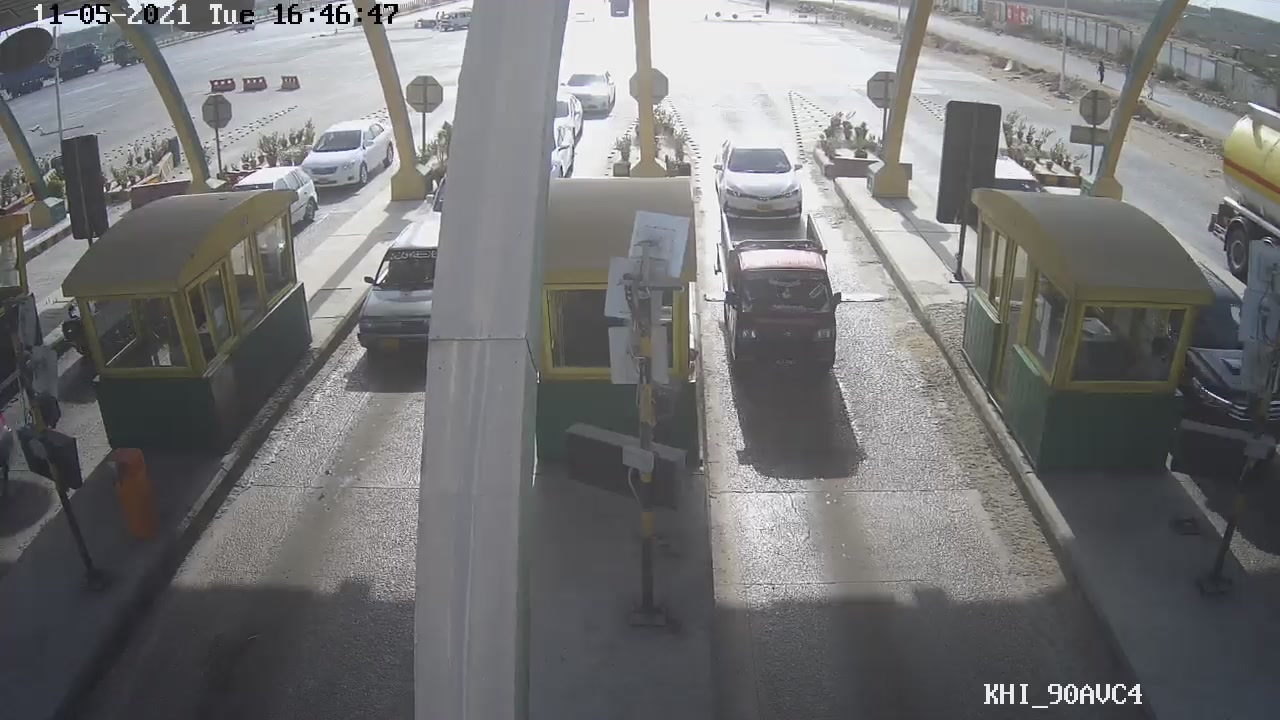F1: (709, 209, 857, 383)
